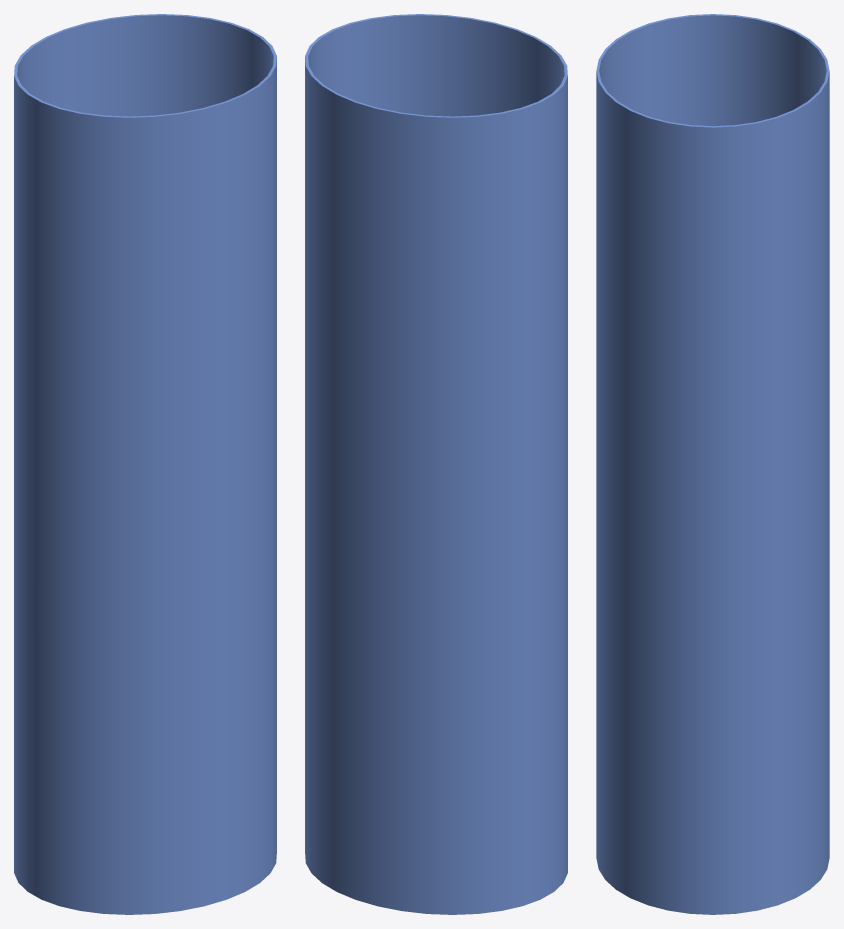
The model's file is üstboru.fbx.
3 renders of one model, left to right at view 1: azimuth 30°, elevation 25°; view 2: azimuth 150°, elevation 25°; view 3: azimuth 270°, elevation 25°, orthographic.
Parts seen in each view (by area): view 1: üstboru; view 2: üstboru; view 3: üstboru.
Boxes of the visible parts, bbox=[...] form: üstboru: bbox=[14, 14, 276, 914]; üstboru: bbox=[305, 14, 567, 914]; üstboru: bbox=[596, 14, 829, 914].
Bounding box in the file's own units: 140 × 452 × 121.
